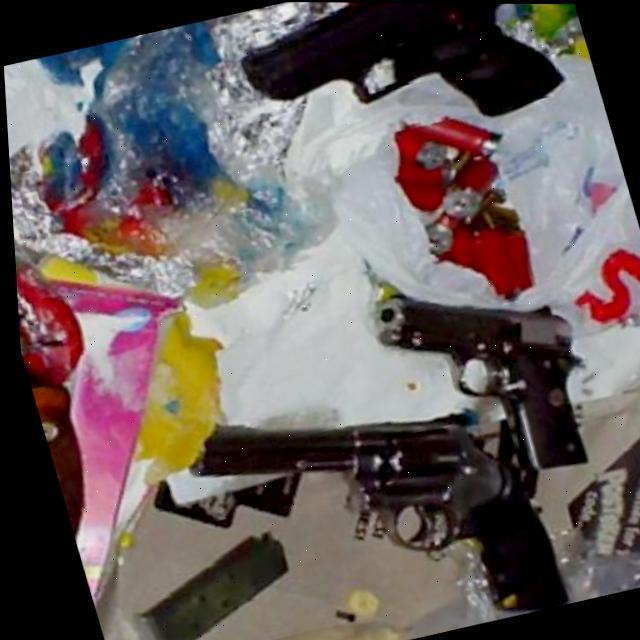gun: (174, 352, 570, 640), (362, 252, 608, 501), (222, 2, 574, 168)
